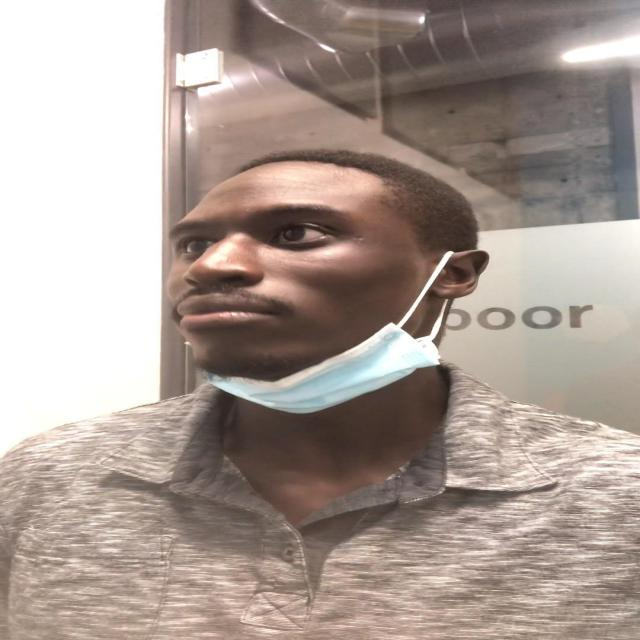face: (164, 170, 470, 376)
